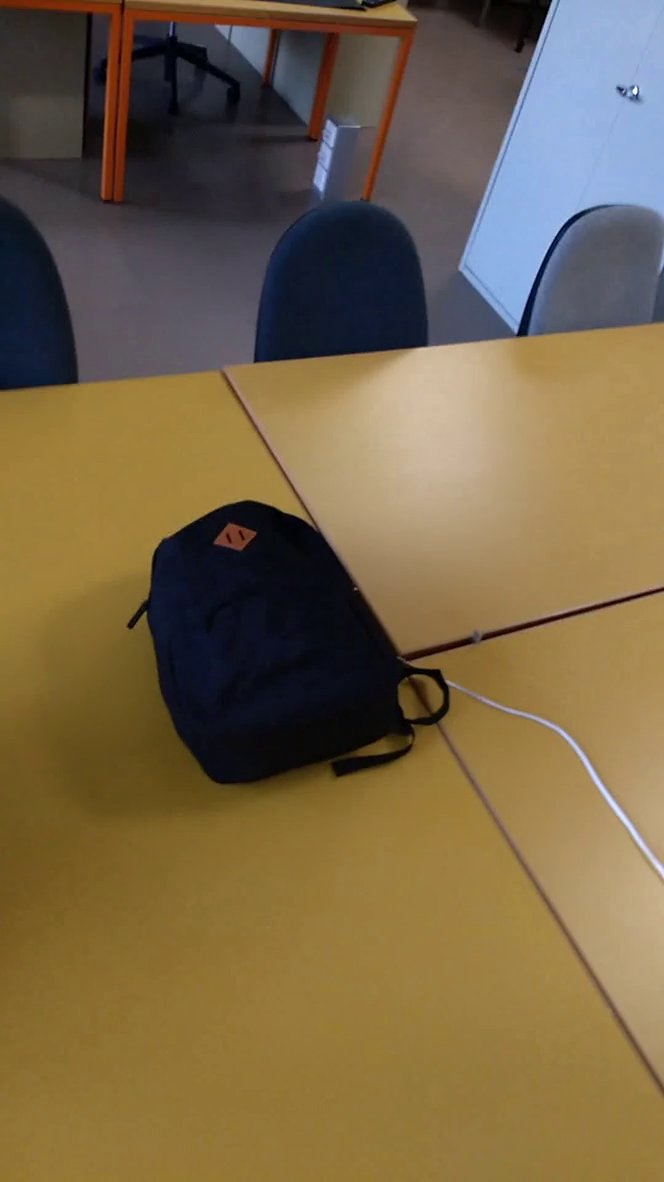bag: (115, 486, 457, 796)
chair: (244, 187, 435, 368), (515, 186, 664, 374)
